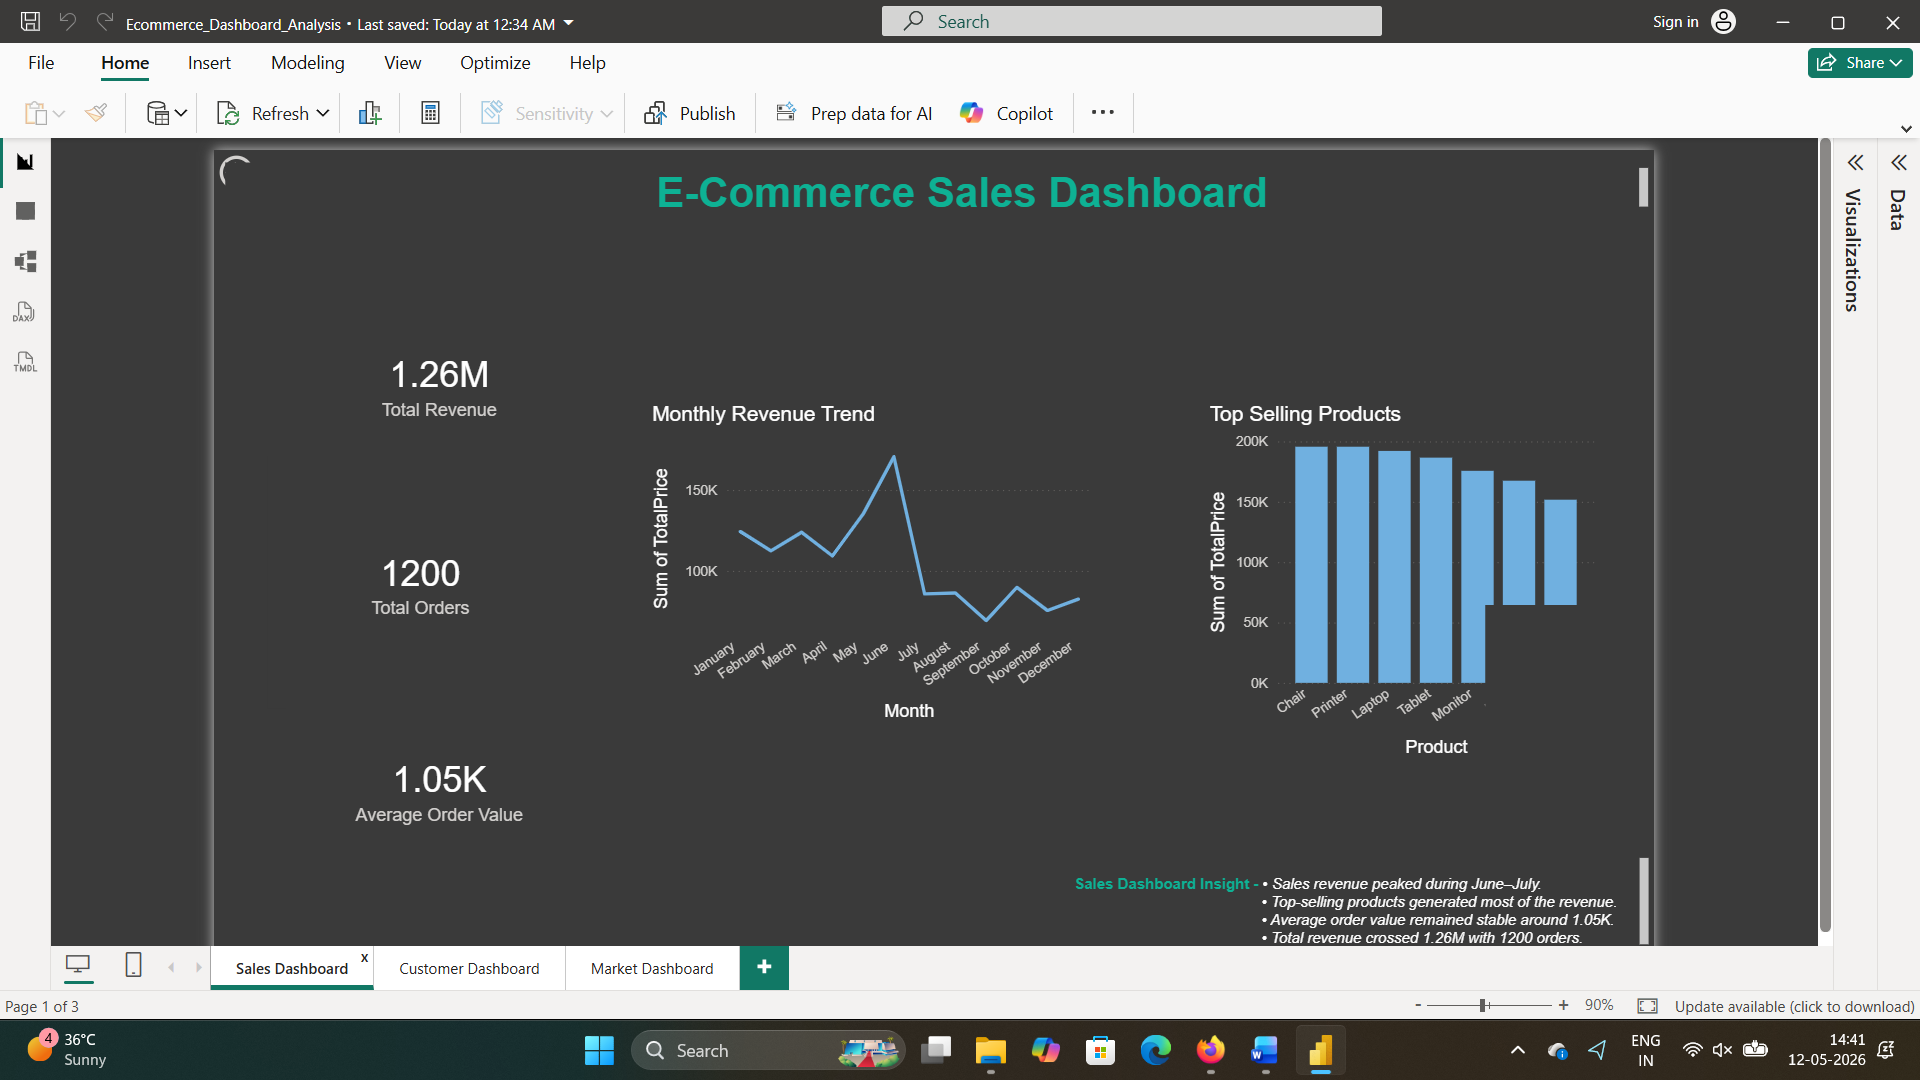

The dashboard page shown, as its layout file describes it:
{"tool":"powerbi","page":{"name":"Sales Dashboard","canvas":[1280,720],"ordinal":0},"visuals":[{"type":"card","fields":{"Values":["Sum(cleaned_orders.TotalPrice)"]},"box":[64,96,272,224],"z":0},{"type":"actionButton","box":[0,0,100,40],"z":1000},{"type":"card","fields":{"Values":["CountNonNull(cleaned_orders.OrderID)"]},"box":[48,272,272,224],"z":2000},{"type":"card","fields":{"Values":["cleaned_orders.Average Order Value"]},"box":[64,496,272,144],"z":3000},{"type":"clusteredColumnChart","title":"Top Selling Products","fields":{"Y":["Sum(cleaned_orders.TotalPrice)"],"Category":["cleaned_orders.Product"]},"box":[880,224,352,320],"z":4000},{"type":"lineChart","title":"Monthly Revenue Trend","fields":{"Category":["cleaned_orders.Month"],"Y":["Sum(cleaned_orders.TotalPrice)"]},"box":[384,224,400,288],"z":7000},{"type":"textbox","box":[1130,404,150,315],"z":8000},{"type":"textbox","box":[10.1,11,1269.9,48.2],"z":9000},{"type":"textbox","box":[760,624,520,88],"z":9001}]}

Visuals, with their boxes on the page's 1280x720 design canvas (x1, y1, x2, y2). These are canvas units, not pixel positions in the 1920x1080 screenshot, which may show the page scaled, cropped or inside an application window:
card - Sum(cleaned_orders.TotalPrice): 64:96:336:320
actionButton: 0:0:100:40
card - CountNonNull(cleaned_orders.OrderID): 48:272:320:496
card - cleaned_orders.Average Order Value: 64:496:336:640
"Top Selling Products" clusteredColumnChart: 880:224:1232:544
"Monthly Revenue Trend" lineChart: 384:224:784:512
textbox: 1130:404:1280:719
textbox: 10:11:1280:59
textbox: 760:624:1280:712
